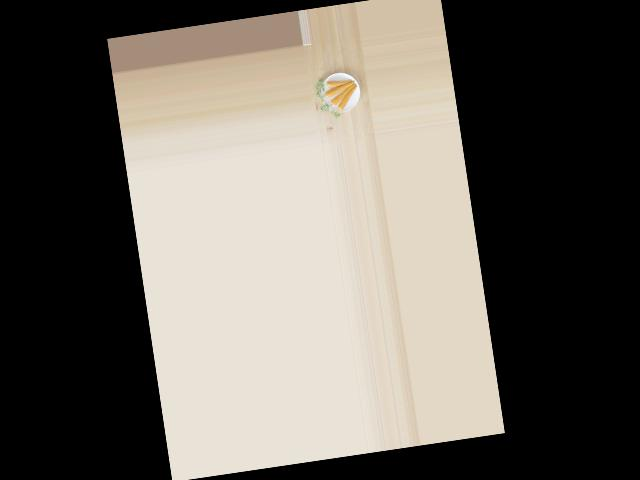carrot: (333, 85, 361, 113)
